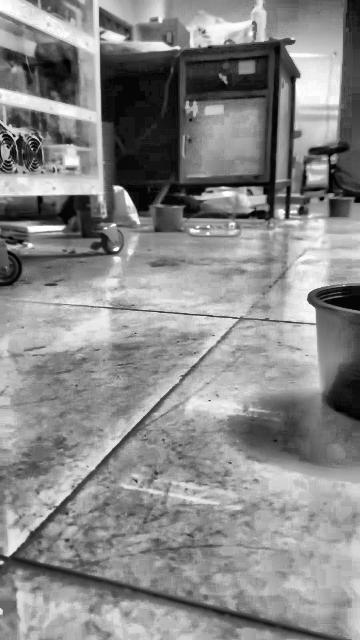pot: (307, 284, 360, 420)
